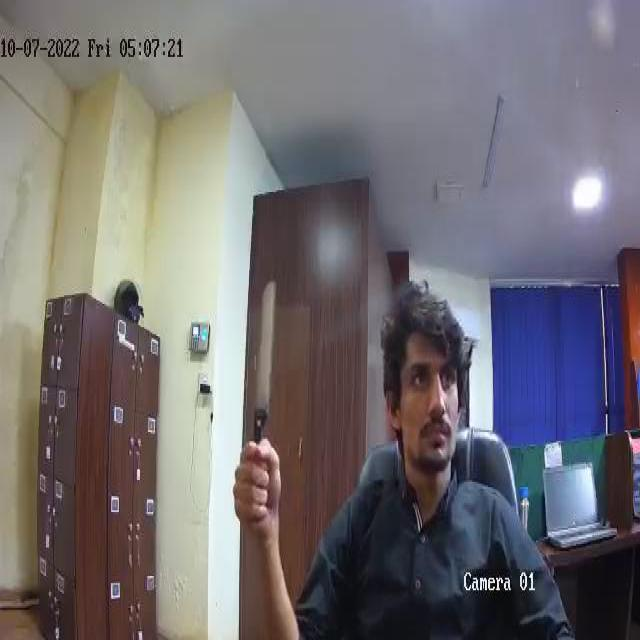Knife: (250, 276, 277, 452)
